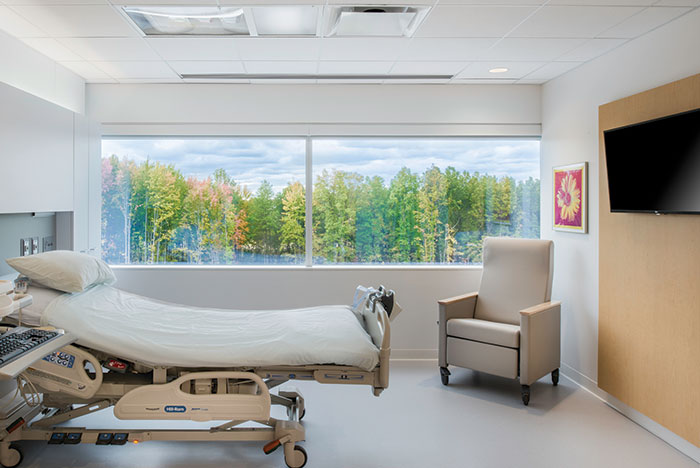TV: (603, 108, 700, 214)
bedrail: (113, 372, 270, 419), (21, 343, 103, 399)
foot_board: (361, 285, 401, 396)
hospital_bed: (1, 252, 402, 468)
keyboard: (1, 326, 62, 369)
sofa: (437, 235, 561, 405)
